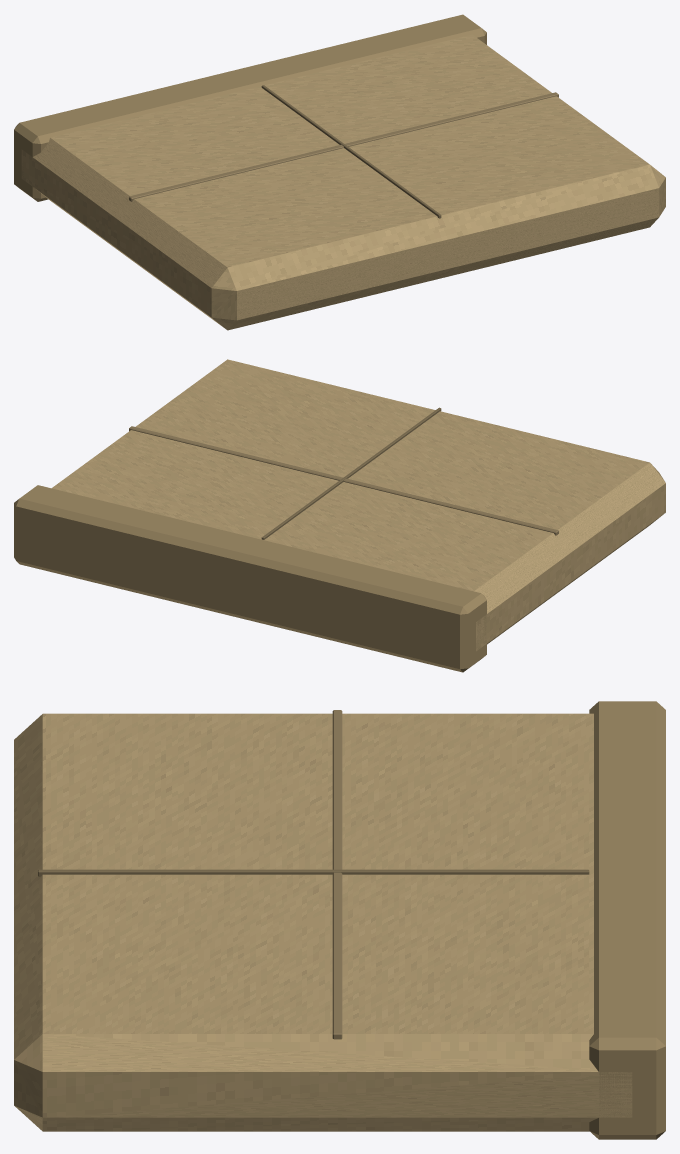
File: pants.glb
3 renders of one model, top to bottom at view 1: azimuth 30°, elevation 25°; view 2: azimuth 150°, elevation 25°; view 3: azimuth 270°, elevation 25°, orthographic. The views are drawn at different scales.
Visible parts, largest first — view 1: block_body, block_waist, block_fold, block_seam; view 2: block_body, block_waist, block_fold, block_seam; view 3: block_body, block_waist, block_fold, block_seam.
Boxes of the visible parts, box(x1,y1,x2,y2) form: block_body: box(21, 34, 665, 330); block_waist: box(14, 14, 486, 201); block_fold: box(129, 92, 558, 201); block_seam: box(261, 85, 441, 218); block_body: box(52, 359, 665, 651); block_waist: box(14, 485, 486, 672); block_fold: box(129, 426, 558, 535); block_seam: box(261, 407, 441, 539); block_body: box(14, 713, 632, 1131); block_waist: box(589, 701, 665, 1139); block_fold: box(332, 710, 342, 1039); block_seam: box(38, 869, 589, 876).
Size of the model in its own units: 0.34 by 0.047 by 0.272.
1 material, 1 textured.
